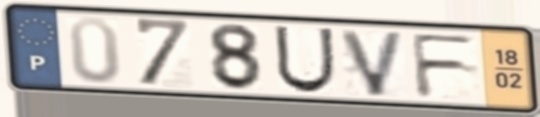0: (65, 14, 124, 86)
7: (133, 16, 194, 89)
8: (206, 22, 266, 92)
F: (407, 32, 481, 100)
U: (272, 23, 338, 95)
V: (336, 27, 409, 99)
